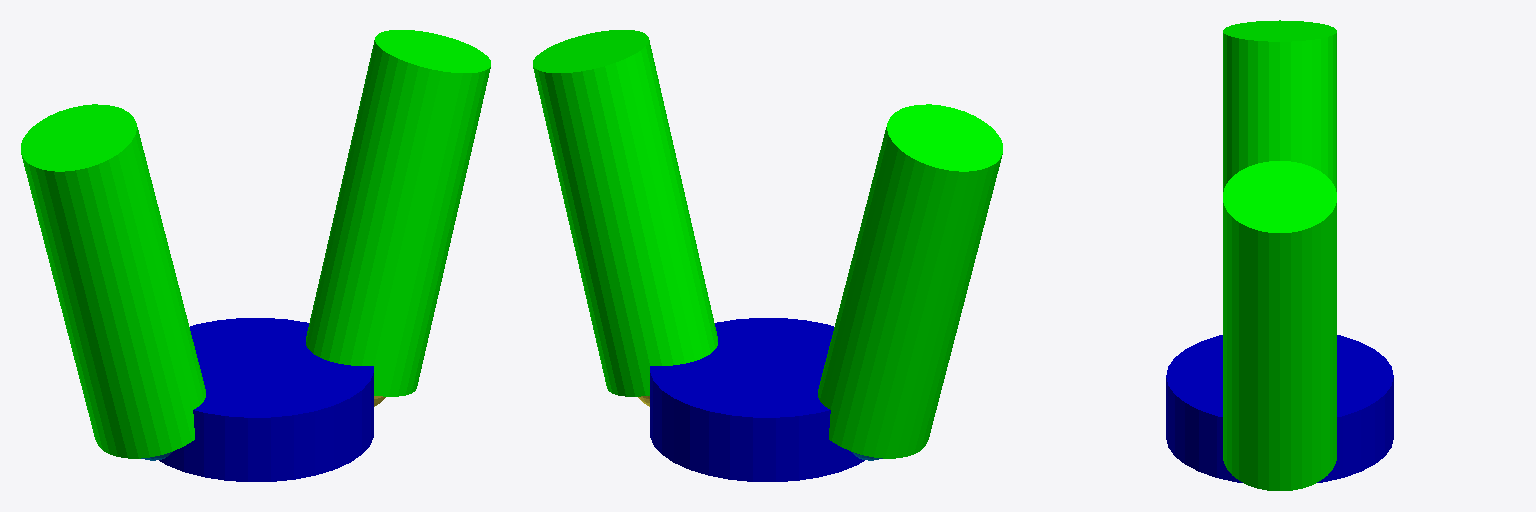
The robot description file, URDF, robot "gripper_2f_1j":
<?xml version='1.0' encoding='UTF-8'?>
<robot name="gripper_2f_1j">
  <link name="palm">
    <inertial>
      <origin xyz="0.0 0.0 0.0" rpy="0.0 -0.0 0.0"/>
      <mass value="1.0"/>
      <inertia ixx="1.0" ixy="0.0" ixz="0.0" iyy="1.0" iyz="0.0" izz="1.0"/>
    </inertial>
    <visual>
      <geometry>
        <cylinder radius="0.05" length="0.03"/>
      </geometry>
      <material name="blue"/>
      <origin xyz="0.0 0.0 0.0" rpy="0.0 -0.0 0.0"/>
    </visual>
    <collision>
      <geometry>
        <cylinder radius="0.05" length="0.03"/>
      </geometry>
      <origin xyz="0.0 0.0 0.0" rpy="0.0 0.0 0.0"/>
    </collision>
  </link>
  <link name="f11">
    <inertial>
      <origin xyz="0.0 0.0 0.0" rpy="0.0 -0.0 0.0"/>
      <mass value="1.0"/>
      <inertia ixx="1.0" ixy="0.0" ixz="0.0" iyy="1.0" iyz="0.0" izz="1.0"/>
    </inertial>
    <visual>
      <geometry>
        <cylinder radius="0.02517762989046948" length="0.1464873150674491"/>
      </geometry>
      <material name="green"/>
      <origin xyz="0.0 0.0 0.07324365753372455" rpy="0.0 -0.0 0.0"/>
    </visual>
    <collision>
      <geometry>
        <cylinder radius="0.02517762989046948" length="0.1464873150674491"/>
      </geometry>
      <origin xyz="0.0 0.0 0.05" rpy="0.0 0.0 0.0"/>
    </collision>
  </link>
  <link name="f21">
    <inertial>
      <origin xyz="0.0 0.0 0.0" rpy="0.0 -0.0 0.0"/>
      <mass value="1.0"/>
      <inertia ixx="1.0" ixy="0.0" ixz="0.0" iyy="1.0" iyz="0.0" izz="1.0"/>
    </inertial>
    <visual>
      <geometry>
        <cylinder radius="0.02517762989046948" length="0.1464873150674491"/>
      </geometry>
      <material name="green"/>
      <origin xyz="0.0 0.0 0.07324365753372455" rpy="0.0 -0.0 0.0"/>
    </visual>
    <collision>
      <geometry>
        <cylinder radius="0.02517762989046948" length="0.1464873150674491"/>
      </geometry>
      <origin xyz="0.0 0.0 0.05" rpy="0.0 0.0 0.0"/>
    </collision>
  </link>
  <link name="f11_base">
    <inertial>
      <origin xyz="0.0 0.0 0.0" rpy="0.0 -0.0 0.0"/>
      <mass value="1.0"/>
      <inertia ixx="1.0" ixy="0.0" ixz="0.0" iyy="1.0" iyz="0.0" izz="1.0"/>
    </inertial>
    <visual>
      <geometry>
        <sphere radius="0.015"/>
      </geometry>
      <origin xyz="0.0 0.0 0.0" rpy="0.0 -0.0 0.0"/>
    </visual>
  </link>
  <link name="f21_base">
    <inertial>
      <origin xyz="0.0 0.0 0.0" rpy="0.0 -0.0 0.0"/>
      <mass value="1.0"/>
      <inertia ixx="1.0" ixy="0.0" ixz="0.0" iyy="1.0" iyz="0.0" izz="1.0"/>
    </inertial>
    <visual>
      <geometry>
        <sphere radius="0.015"/>
      </geometry>
      <origin xyz="0.0 0.0 0.0" rpy="0.0 -0.0 0.0"/>
    </visual>
  </link>
  <joint name="f11_joint" type="revolute">
    <dynamics damping="100.0" friction="1.0"/>
    <limit effort="30.0" velocity="2.0" lower="-0.6" upper="0.25"/>
    <parent link="f11_base"/>
    <child link="f11"/>
    <axis xyz="0. 1. 0."/>
    <origin xyz="0.0 0.0 0.0" rpy="0.0 0.25 0.0"/>
  </joint>
  <joint name="f21_joint" type="revolute">
    <dynamics damping="100.0" friction="1.0"/>
    <limit effort="30.0" velocity="2.0" lower="-0.6" upper="0.25"/>
    <parent link="f21_base"/>
    <child link="f21"/>
    <axis xyz=" 0. -1.  0."/>
    <origin xyz="0.0 0.0 0.0" rpy="0.0 -0.25 0.0"/>
  </joint>
  <joint name="f11_base_joint" type="fixed">
    <parent link="palm"/>
    <child link="f11_base"/>
    <axis xyz="1. 0. 0."/>
    <origin xyz="0.05 0.0 0.0" rpy="0.0 0.0 0.0"/>
  </joint>
  <joint name="f21_base_joint" type="fixed">
    <parent link="palm"/>
    <child link="f21_base"/>
    <axis xyz="1. 0. 0."/>
    <origin xyz="-0.05 -0.0 0.0" rpy="0.0 0.0 0.0"/>
  </joint>
  <material name="blue">
    <color rgba="0.  0.  0.8 1. "/>
  </material>
  <material name="green">
    <color rgba="0. 1. 0. 1."/>
  </material>
</robot>

--- What the picture shows (computed from the rendered views, not written in the file) ---
Views: 3 orthographic renders of the robot side by side, from view 1: azimuth 30°, elevation 25°; view 2: azimuth 150°, elevation 25°; view 3: azimuth 270°, elevation 25°.
Robot: gripper_2f_1j — 5 links, 4 joints (2 revolute, 2 fixed); root link palm; default pose: all joints at 0.
Links seen in each view (by area): view 1: f11, f21, palm; view 2: f11, f21, palm; view 3: f11, f21, palm.
Boxes of the visible links, x1,y1,x2,y2 form: f11: (306,30,490,396); f21: (21,104,205,458); palm: (159,318,373,481); f11: (533,30,717,396); f21: (818,104,1002,458); palm: (650,318,864,481); f11: (1223,161,1336,490); f21: (1223,20,1336,191); palm: (1166,335,1393,482).
Bounding box of the posed robot: 0.2213 × 0.1 × 0.1632 m (x, y, z).
Geometry: primitives only (box / cylinder / sphere), no mesh files.